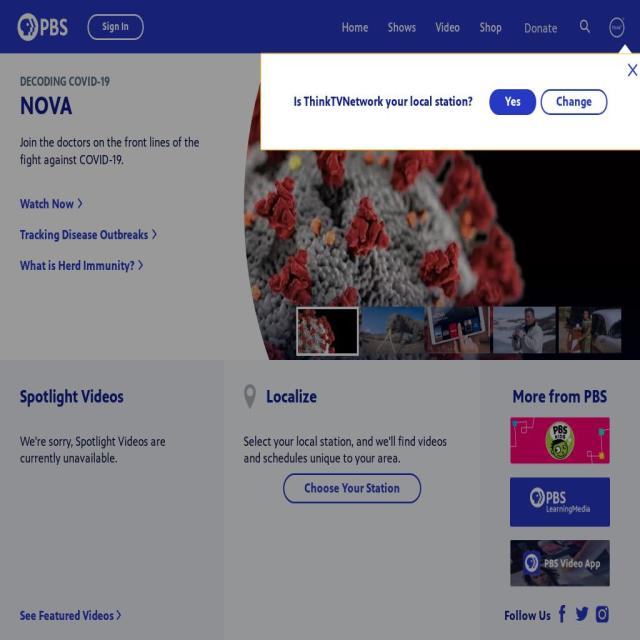button: (20, 134, 221, 168), (283, 474, 422, 504), (14, 0, 77, 53), (20, 606, 204, 624), (20, 73, 221, 89), (512, 0, 570, 52), (378, 0, 425, 53), (425, 0, 470, 53), (600, 0, 640, 56), (470, 0, 512, 53), (540, 88, 608, 115), (570, 0, 600, 53), (88, 14, 144, 40), (489, 88, 536, 115), (555, 603, 568, 621), (575, 603, 588, 621), (595, 603, 608, 621)
heading: (244, 433, 460, 467), (20, 433, 204, 467), (20, 386, 204, 406), (512, 386, 608, 406), (20, 91, 72, 121), (266, 386, 318, 406), (244, 384, 257, 409)
image: (0, 0, 640, 640), (240, 53, 640, 359), (509, 417, 610, 464), (509, 540, 610, 587), (492, 306, 556, 354), (427, 306, 490, 354), (558, 306, 621, 354), (296, 306, 358, 354), (362, 306, 424, 354), (18, 7, 68, 46), (529, 487, 590, 515), (602, 16, 632, 38), (555, 604, 569, 623), (575, 604, 589, 623), (595, 604, 609, 623), (626, 62, 639, 78), (580, 18, 590, 34), (76, 198, 84, 208), (151, 229, 158, 239), (137, 260, 144, 270), (116, 609, 122, 620)
link: (342, 8, 368, 45)
text: (20, 226, 148, 242), (20, 258, 134, 274), (20, 607, 114, 623), (383, 93, 473, 109), (304, 93, 383, 109), (20, 196, 74, 212), (504, 606, 550, 624), (556, 93, 592, 109), (388, 18, 416, 35), (436, 18, 460, 35), (480, 18, 502, 35), (102, 20, 128, 33), (505, 93, 521, 109), (294, 93, 304, 109)
